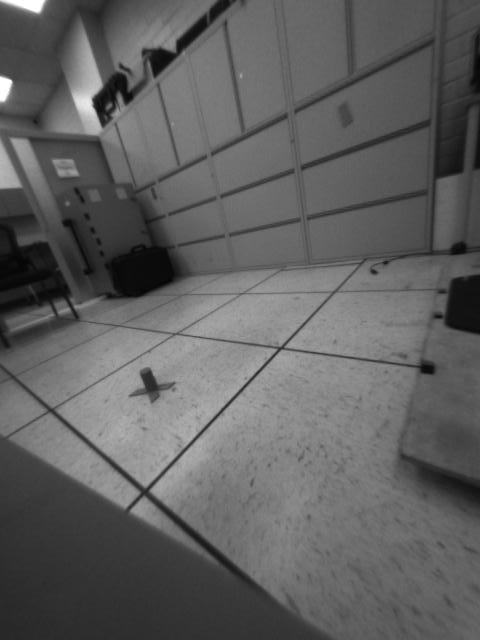X: (127, 367, 176, 403)
